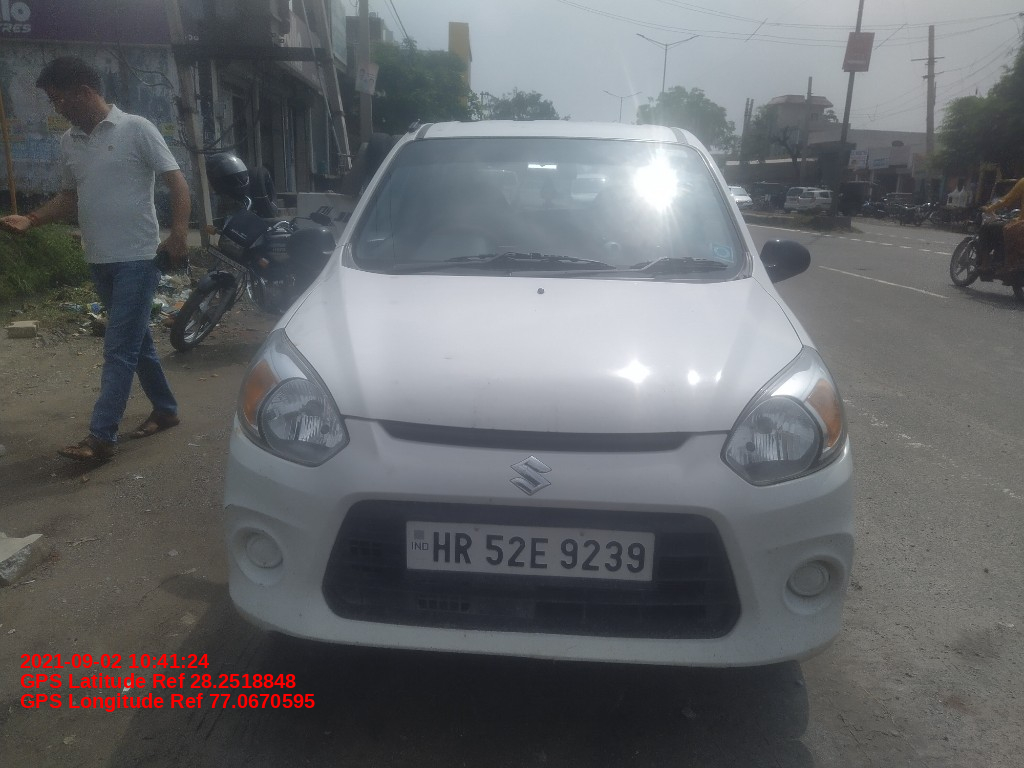Scratched: (434, 347, 464, 366)
